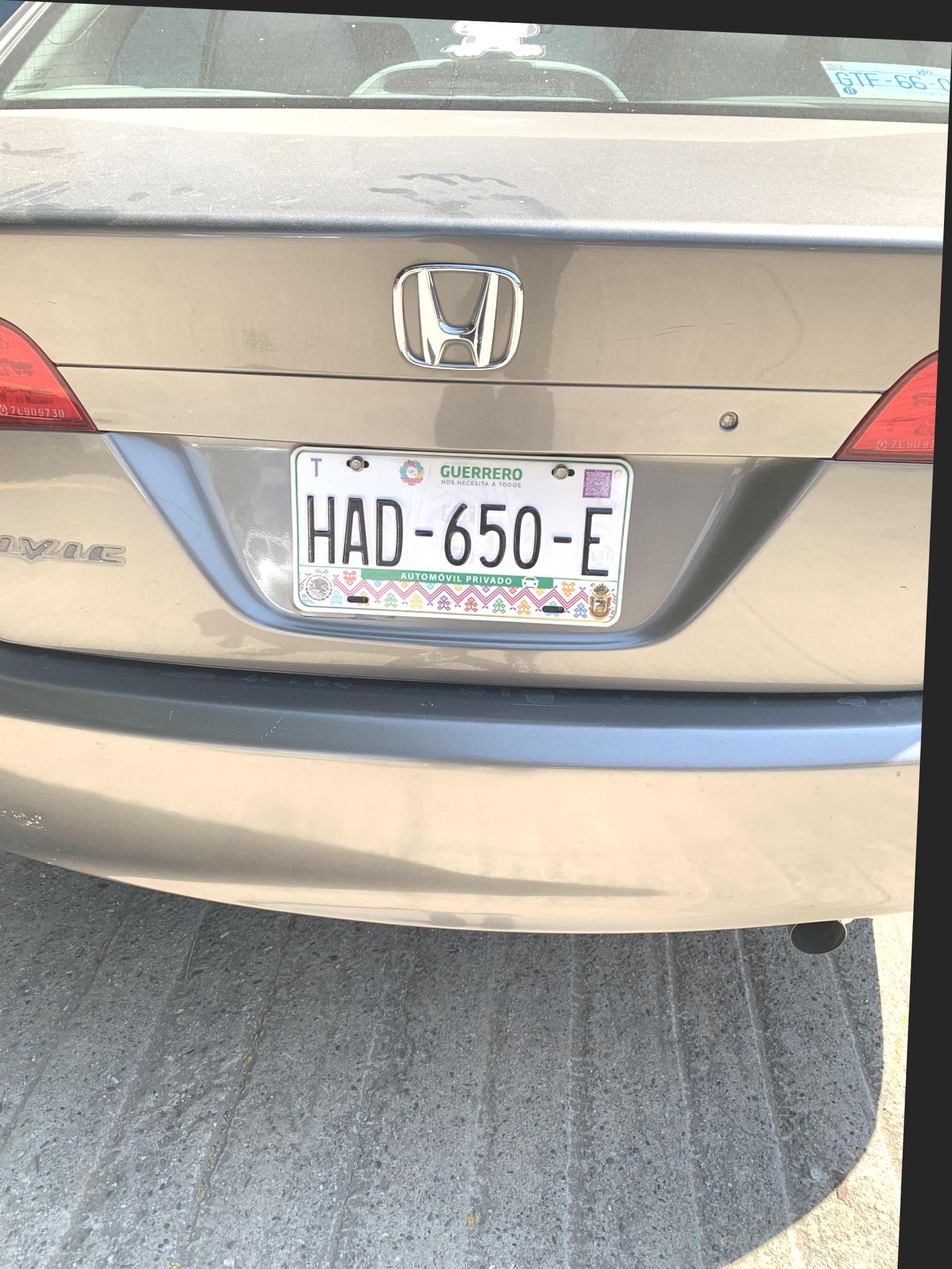License_Plate: (251, 422, 653, 656)
